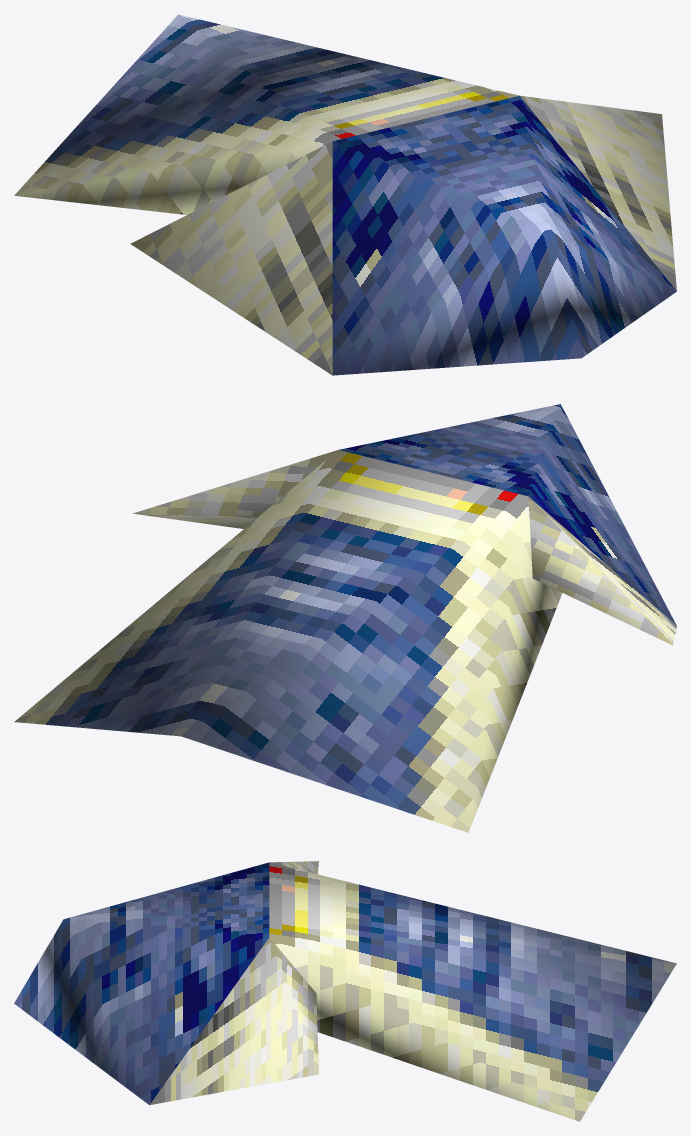
The model's file is HoverBomberZ_Anim.glb.
The picture shows the model from 3 angles, top to bottom: view 1: azimuth 30°, elevation 25°; view 2: azimuth 150°, elevation 25°; view 3: azimuth 270°, elevation 25°; orthographic projection. The views are drawn at different scales.
Visible parts, largest first — view 1: HoverBomberZ_Skel_part00; view 2: HoverBomberZ_Skel_part00; view 3: HoverBomberZ_Skel_part00.
Boxes of the visible parts, x1,y1,x2,y2 form: HoverBomberZ_Skel_part00: (14,14,676,375); HoverBomberZ_Skel_part00: (14,404,676,832); HoverBomberZ_Skel_part00: (14,861,676,1121).
Size of the model in its own units: 15.97 by 4.68 by 20.97.
Materials: 3 (3 with a texture image).
